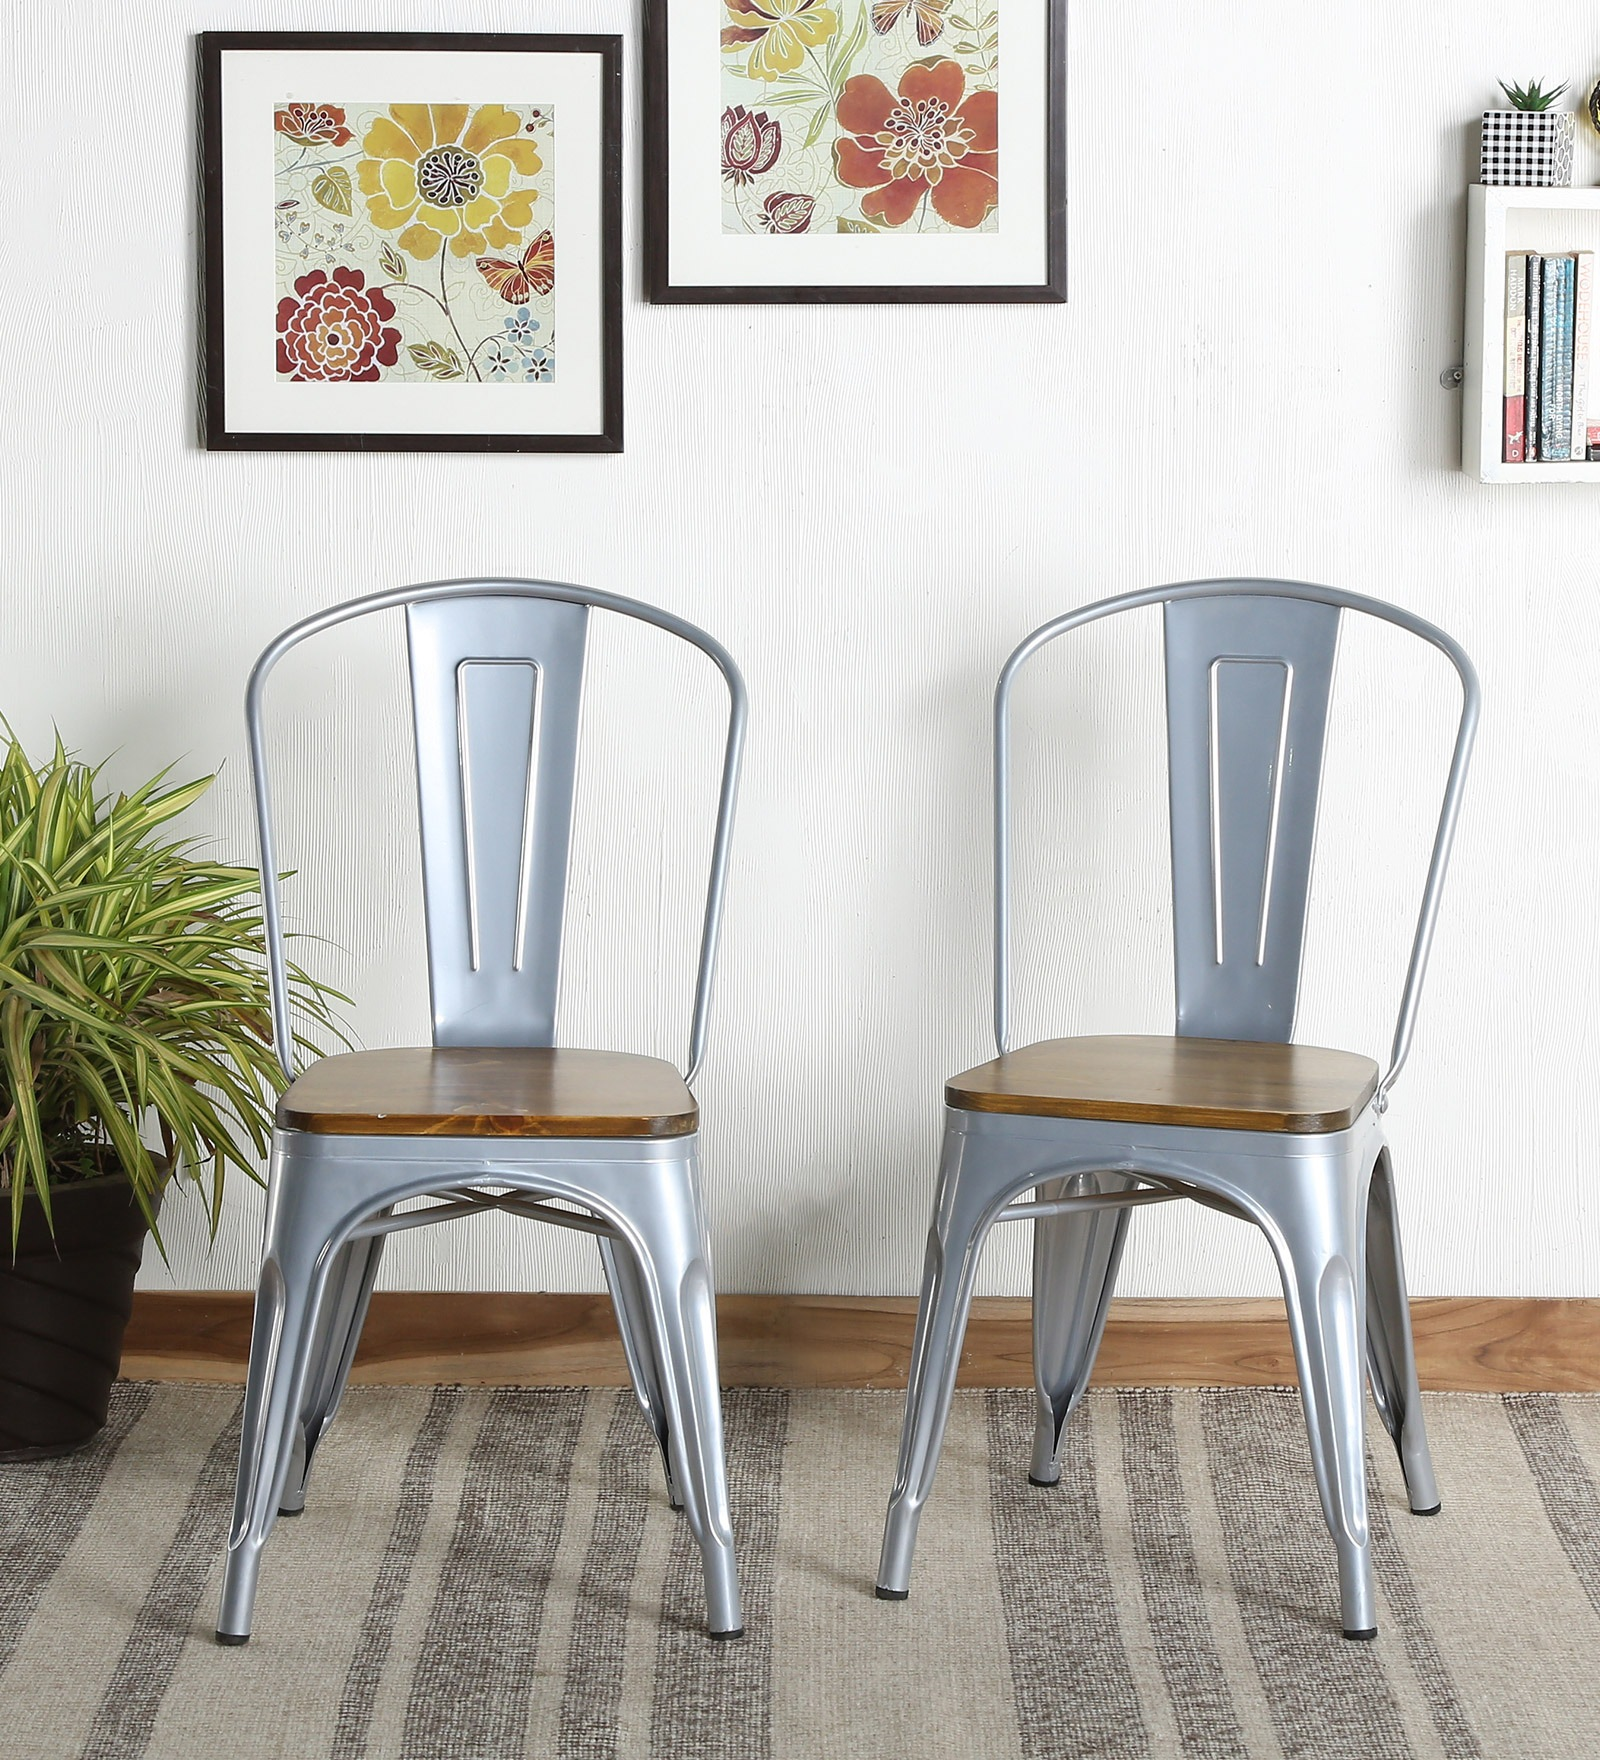Loy Metal Chair (Set of 2) in Silver Colour with Wooden Seat by Bohemiana: (864, 544, 1477, 1633), (234, 563, 749, 1640)
